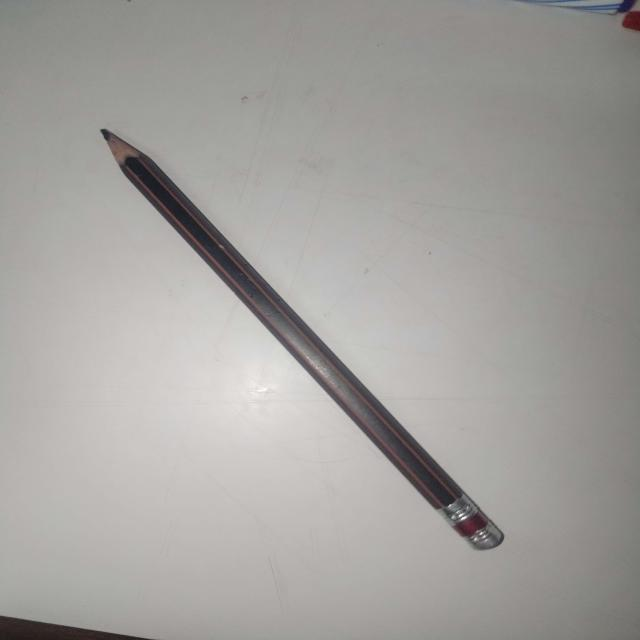pen_pencil: (76, 86, 561, 620)
